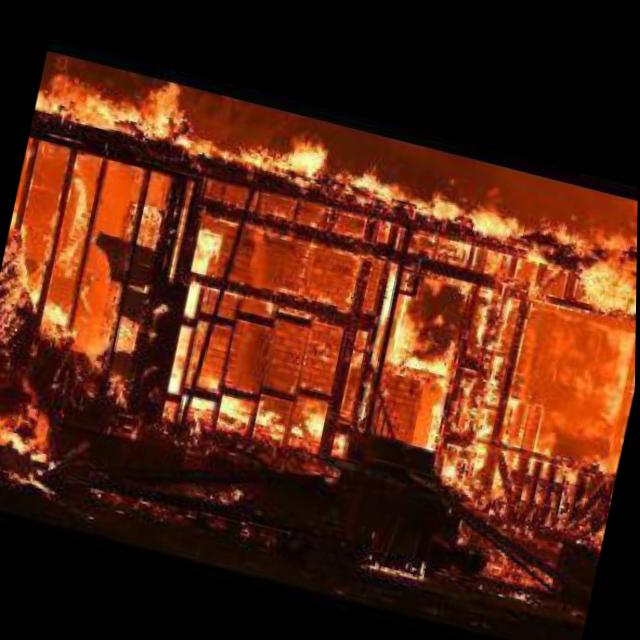Fire: (0, 51, 639, 640)
